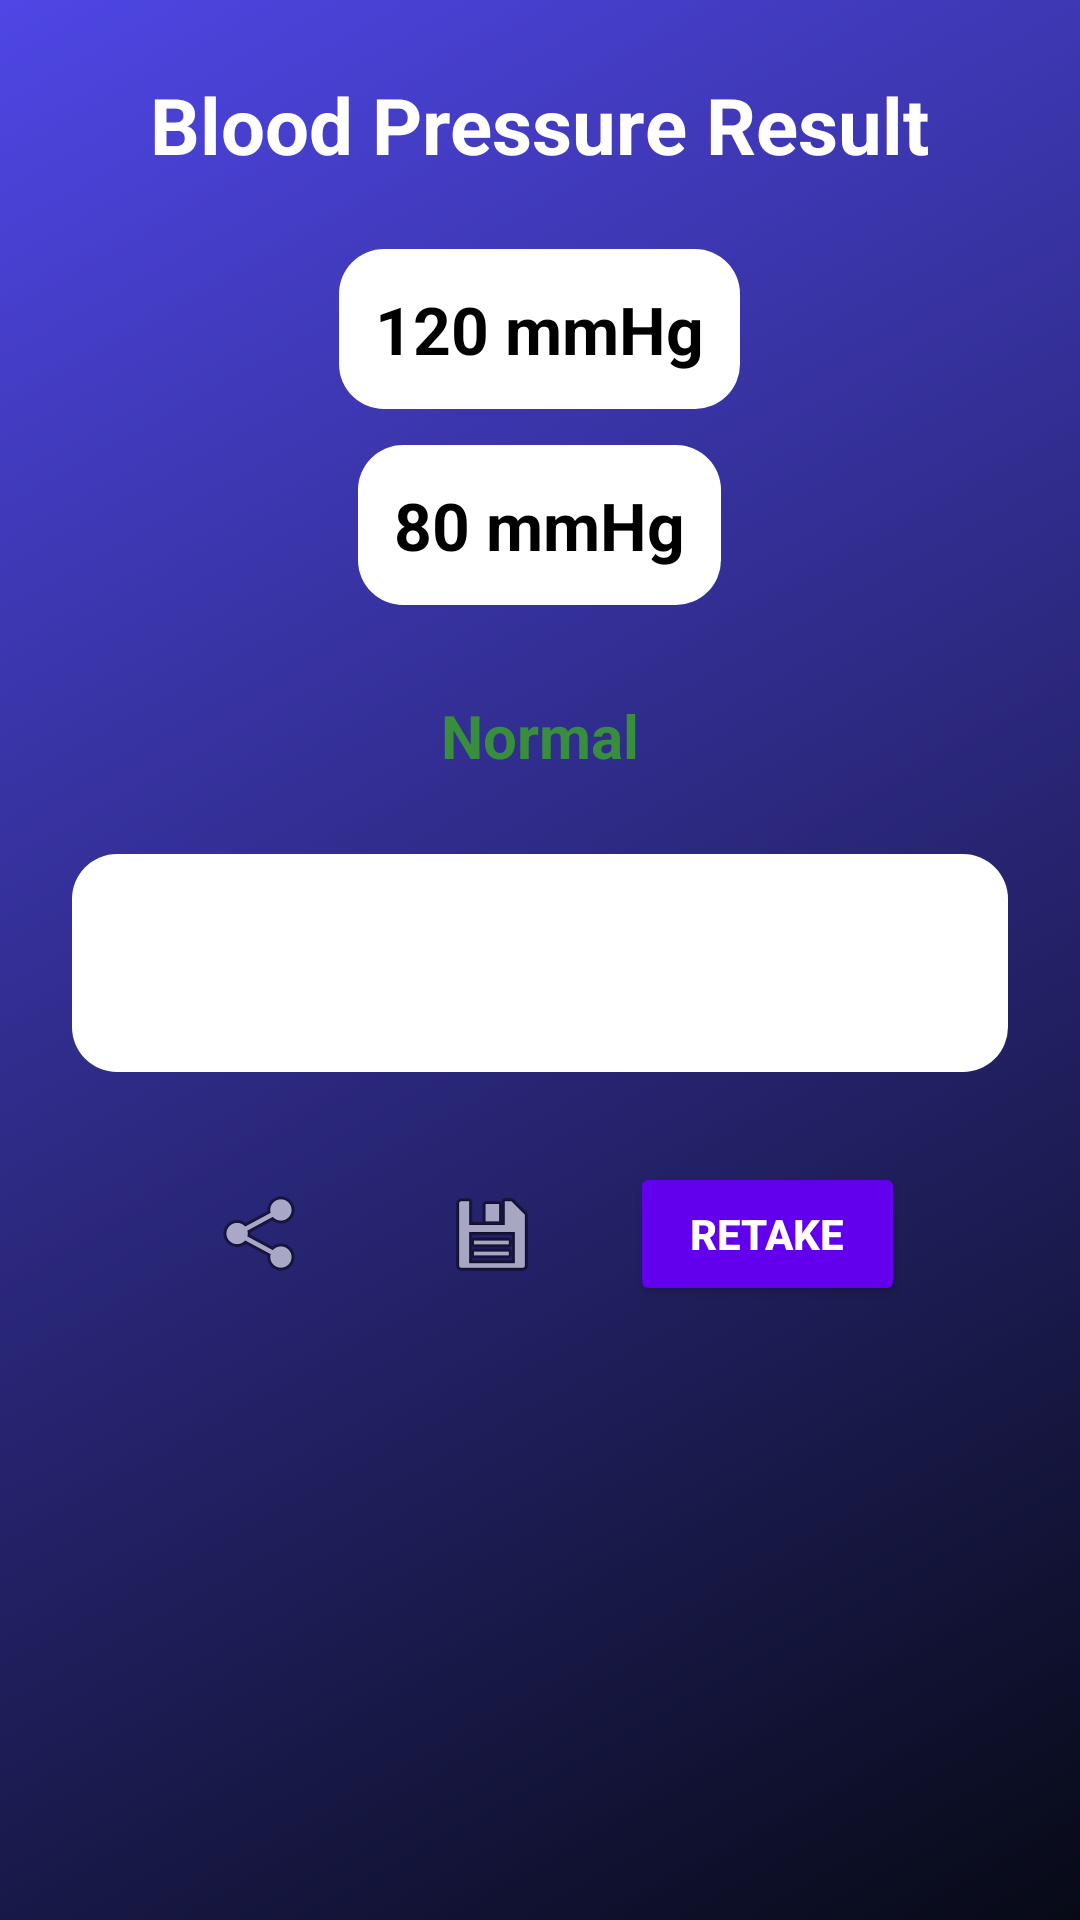

Icons on this 1080px x 1920px Android screen, each with its box as (x1, y1, x2, y2):
Share Blood Pressure: (224, 1197, 294, 1271)
